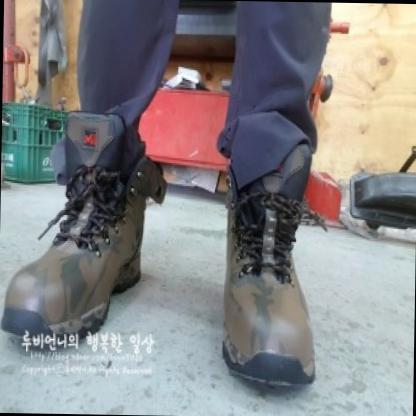safety-shoe: (1, 114, 156, 366), (204, 132, 347, 392)
